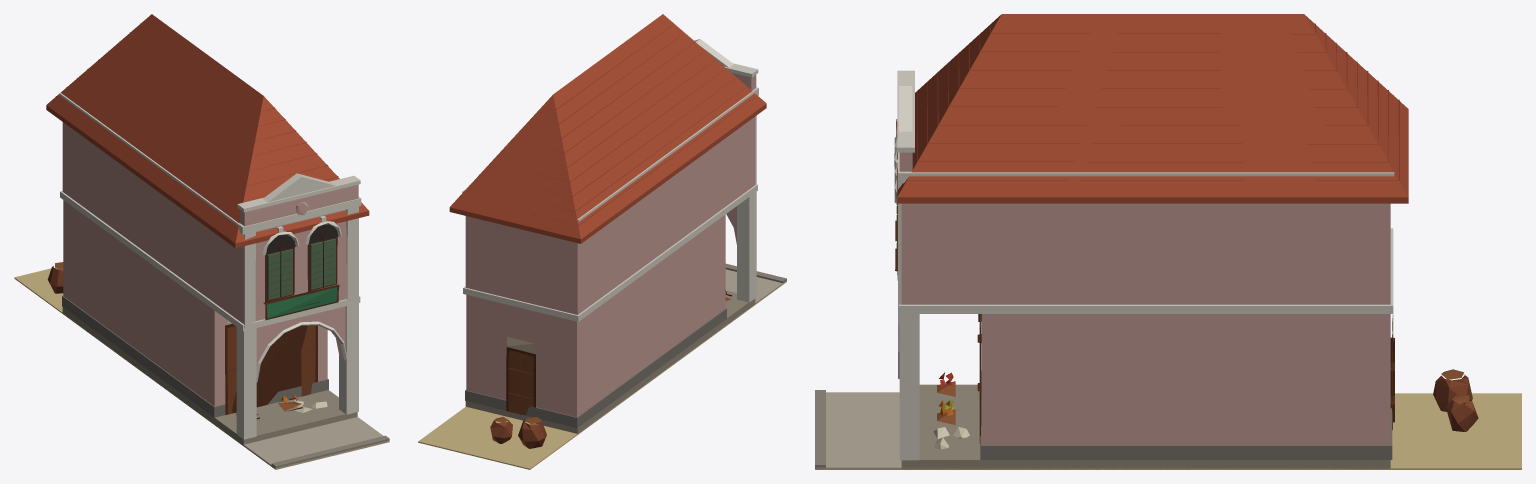
The model's file is bay1_mid2.glb.
3 renders of one model, left to right at view 1: azimuth 30°, elevation 25°; view 2: azimuth 150°, elevation 25°; view 3: azimuth 270°, elevation 25°, orthographic. The views are drawn at different scales.
Parts seen in each view (by area): view 1: body, windows; view 2: body; view 3: body.
Part boxes in pixels (bbox=[...]): body: bbox=[14, 14, 389, 469]; windows: bbox=[266, 224, 338, 299]; body: bbox=[418, 14, 786, 469]; body: bbox=[815, 14, 1521, 469].
Size of the model in its own units: 4.7 by 10.39 by 15.9.
